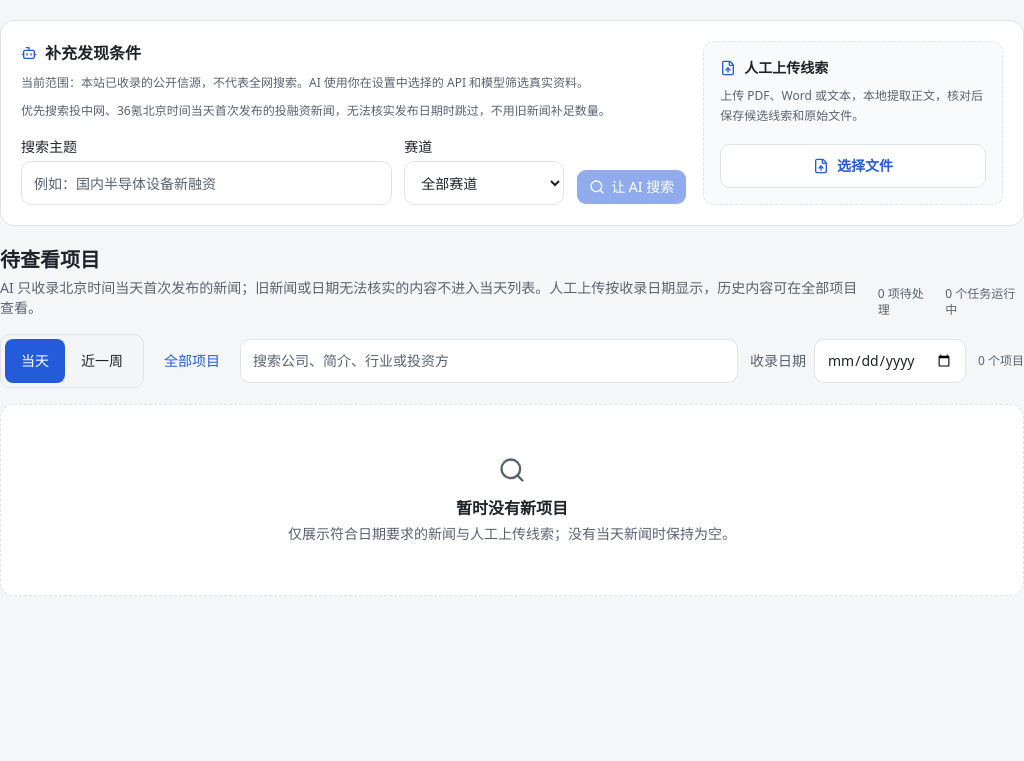
combines a keyword with an explicit discovery date
Type "2026-09-02" into the date field named "按日期查看项目" at [890, 361], box [814, 339, 966, 383]
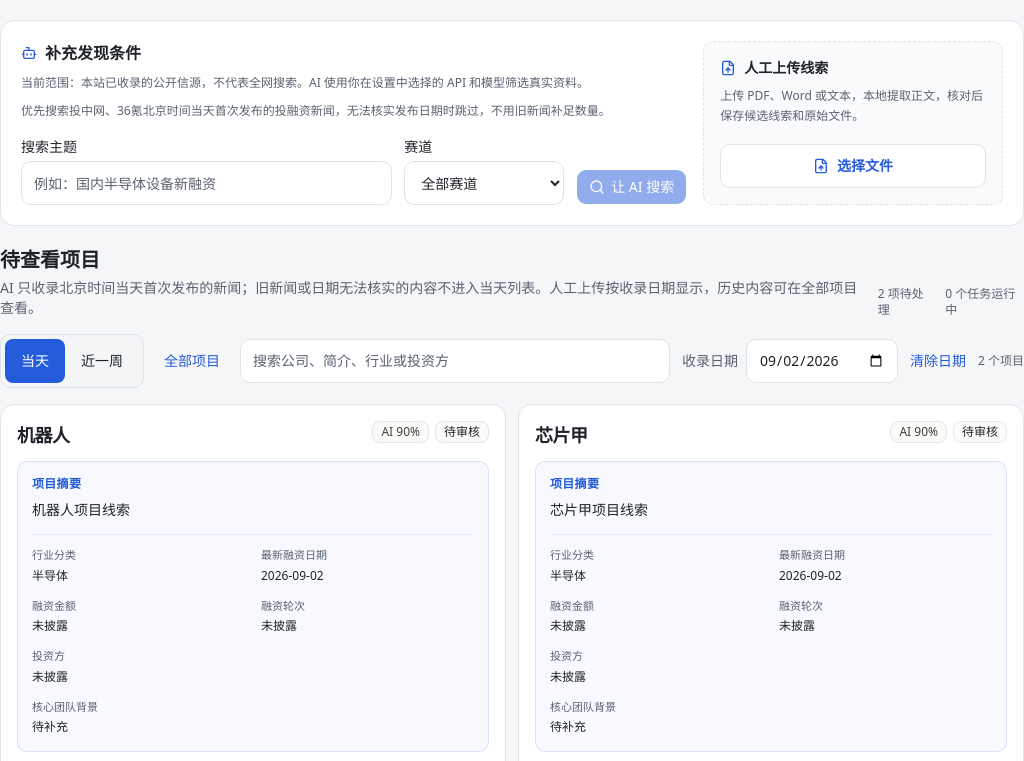
Type "芯片" into the field named "筛选项目关键词" at [455, 361], box [240, 339, 670, 383]
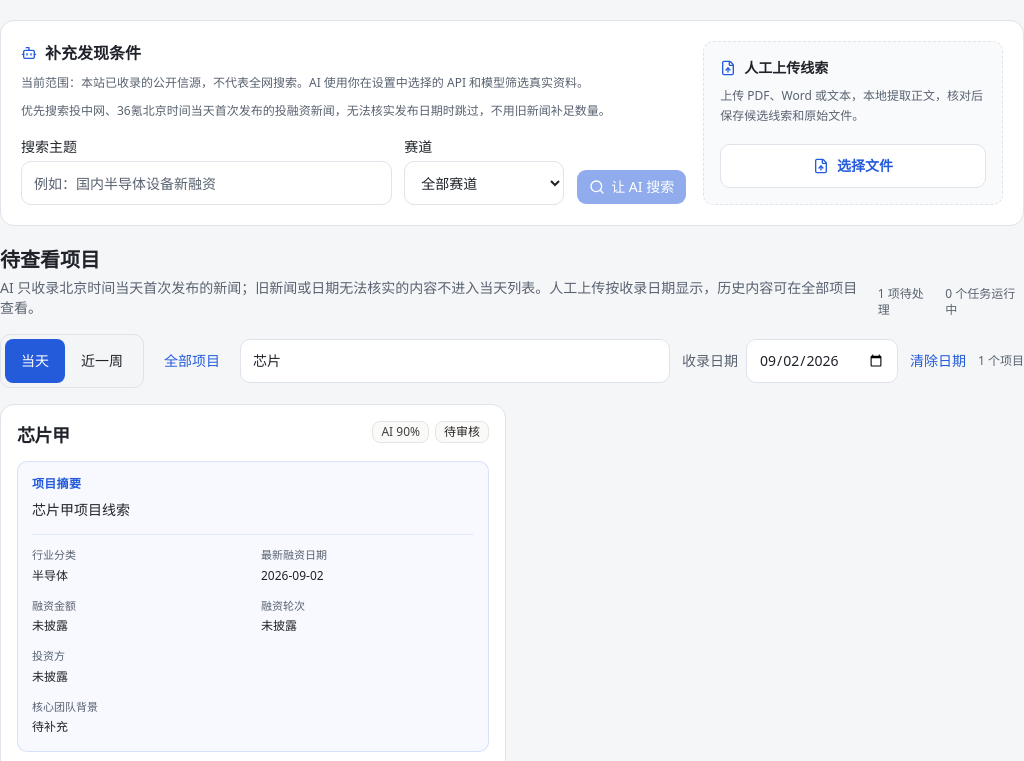
Expected: the heading "芯片甲" is shown, [17, 421, 70, 449]
Expected: the heading "机器人" is gone
